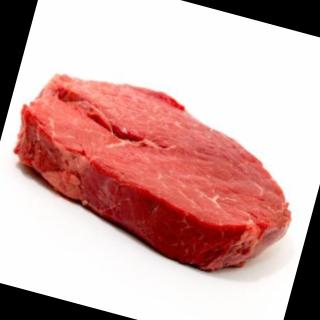Daging Sapi: (1, 58, 315, 290)
